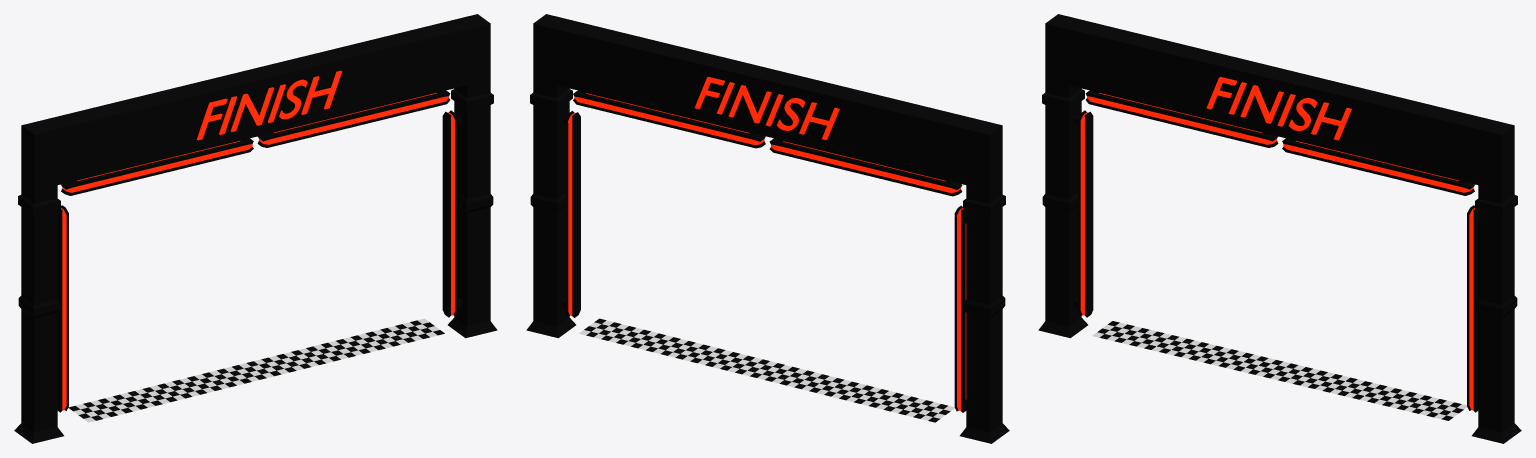
File: Finishline.fbx
3 views of the same model, side by side, from view 1: azimuth 30°, elevation 25°; view 2: azimuth 150°, elevation 25°; view 3: azimuth 330°, elevation 25° (orthographic).
Parts seen in each view (by area): view 1: Startrahmen, Startlinie, Text.004; view 2: Startrahmen, Startlinie, Text.003; view 3: Startrahmen, Startlinie, Text.004.
Part boxes in pixels (x1=…): Startrahmen: x1=14, y1=14, x2=497, y2=443; Startlinie: x1=68, y1=318, x2=444, y2=422; Text.004: x1=196, y1=70, x2=342, y2=140; Startrahmen: x1=526, y1=14, x2=1009, y2=443; Startlinie: x1=579, y1=318, x2=954, y2=422; Text.003: x1=694, y1=76, x2=839, y2=139; Startrahmen: x1=1038, y1=14, x2=1521, y2=443; Startlinie: x1=1092, y1=321, x2=1466, y2=420; Text.004: x1=1206, y1=76, x2=1351, y2=140.
Size of the model in its own units: 2596 by 1632 by 200.
